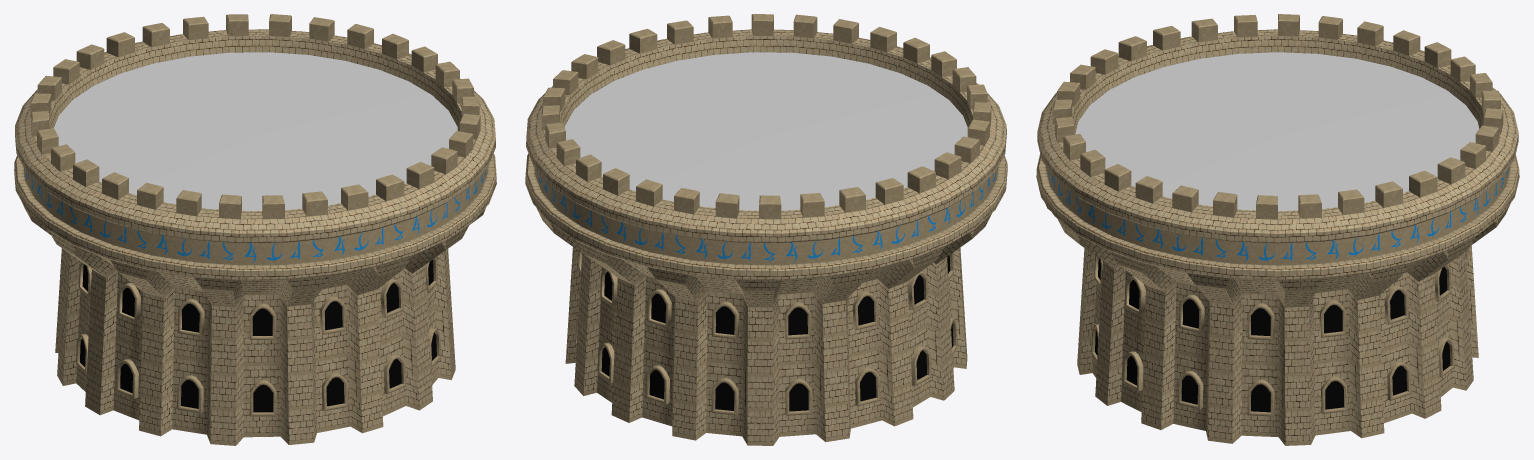
Rendered from Castle4.fbx.
3 renders of one model, left to right at view 1: azimuth 30°, elevation 25°; view 2: azimuth 150°, elevation 25°; view 3: azimuth 270°, elevation 25°, orthographic.
Parts seen in each view (by area): view 1: Cylinder.001, Cylinder.002; view 2: Cylinder.001, Cylinder.002; view 3: Cylinder.001, Cylinder.002.
Boxes of the visible parts, x1,y1,x2,y2 form: Cylinder.001: (14, 14, 496, 445); Cylinder.002: (54, 52, 457, 210); Cylinder.001: (525, 14, 1007, 445); Cylinder.002: (564, 52, 967, 210); Cylinder.001: (1036, 14, 1519, 445); Cylinder.002: (1075, 52, 1479, 211).
Size of the model in its own units: 3672 by 2125 by 3672.
